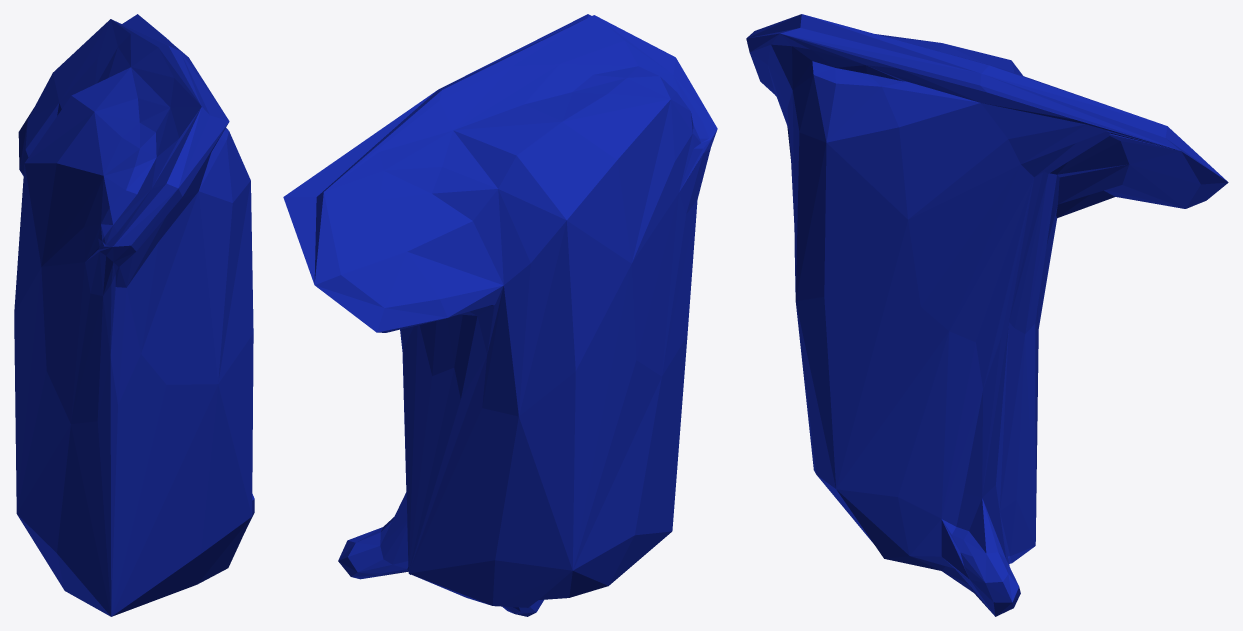
3 renders of one model, left to right at view 1: azimuth 30°, elevation 25°; view 2: azimuth 150°, elevation 25°; view 3: azimuth 270°, elevation 25°, orthographic.
Visible parts, largest first — view 1: 818_Cube.3295; view 2: 818_Cube.3295; view 3: 818_Cube.3295.
Part boxes in pixels (x1,y1,x2,y2): 818_Cube.3295: (14, 14, 254, 616); 818_Cube.3295: (283, 14, 717, 616); 818_Cube.3295: (746, 14, 1228, 616).
Size of the model in its own units: 7.1 by 14.07 by 11.32.
